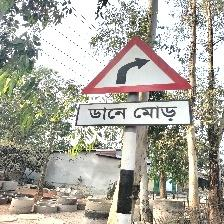Right-turn: (77, 36, 195, 128)
